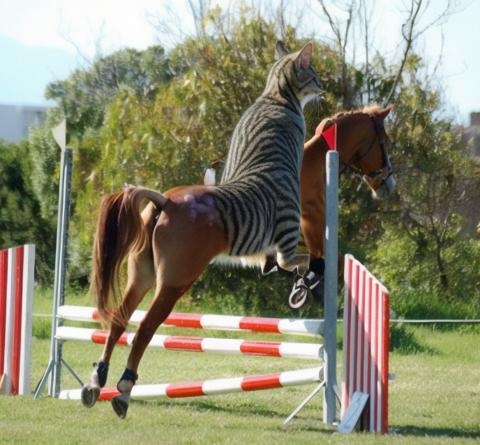cat: (215, 40, 324, 271)
horse: (80, 100, 401, 423)
